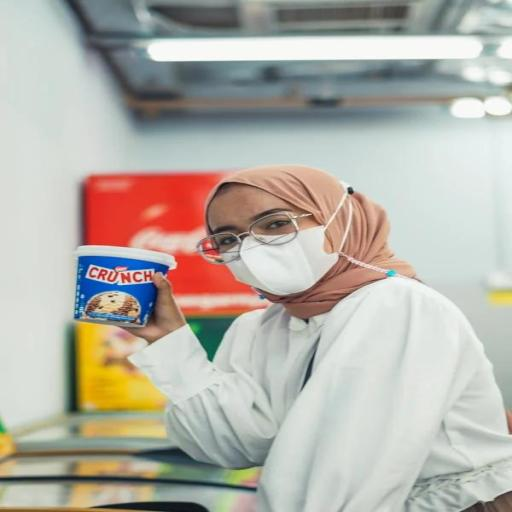mask: (188, 176, 368, 302)
